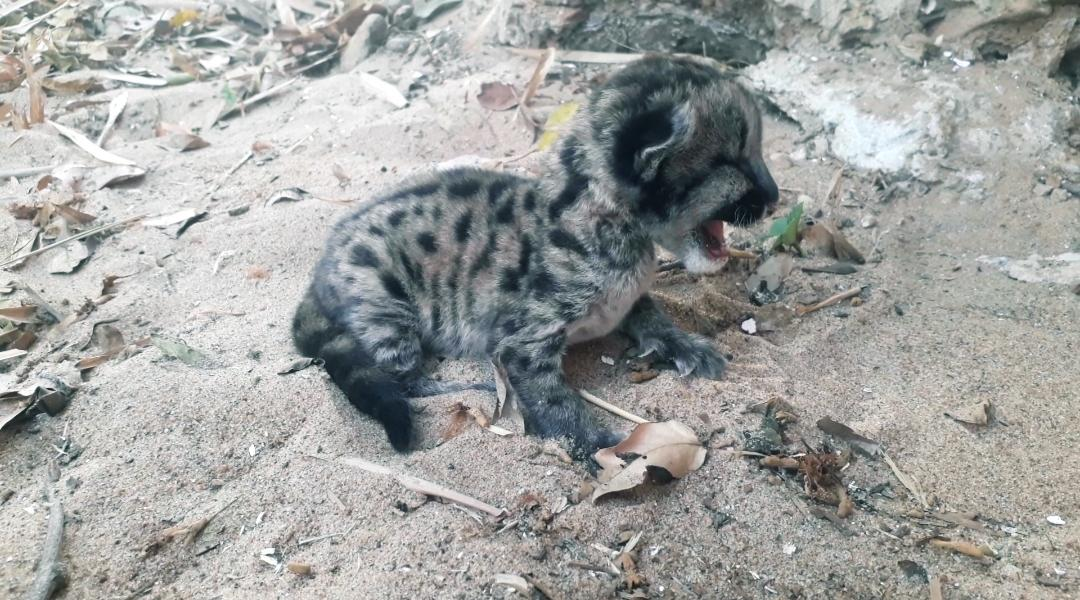OncaParda: (286, 46, 779, 467)
